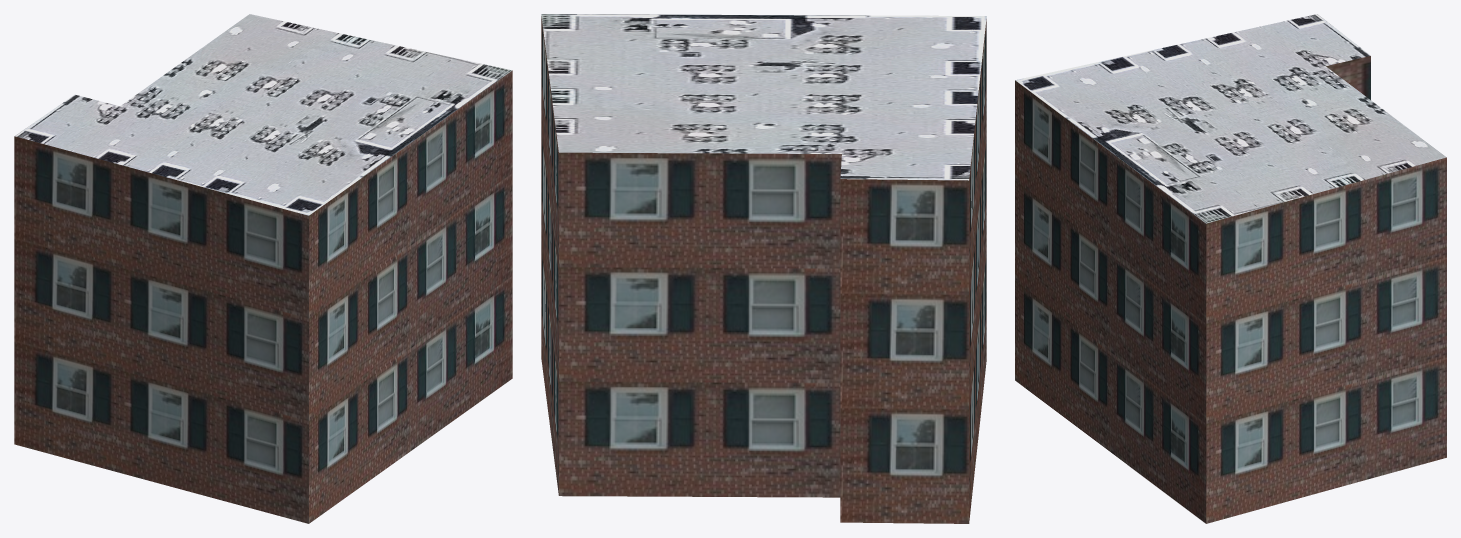
The model's file is ResTex__4765.fbx.
3 renders of one model, left to right at view 1: azimuth 30°, elevation 25°; view 2: azimuth 150°, elevation 25°; view 3: azimuth 270°, elevation 25°, orthographic. The views are drawn at different scales.
Visible parts, largest first — view 1: CityEngineMaterial_14_m, CityEngineMaterial_2_m; view 2: CityEngineMaterial_14_m, CityEngineMaterial_2_m; view 3: CityEngineMaterial_14_m, CityEngineMaterial_2_m.
Part boxes in pixels (x1,y1,x2,y2): CityEngineMaterial_14_m: (14, 70, 512, 523); CityEngineMaterial_2_m: (15, 14, 511, 215); CityEngineMaterial_14_m: (541, 16, 986, 523); CityEngineMaterial_2_m: (541, 14, 986, 180); CityEngineMaterial_14_m: (1015, 56, 1446, 523); CityEngineMaterial_2_m: (1015, 14, 1446, 223).
Bounding box in the file's own units: 13.48 × 9 × 11.73.
Materials: 2 (2 with a texture image).
